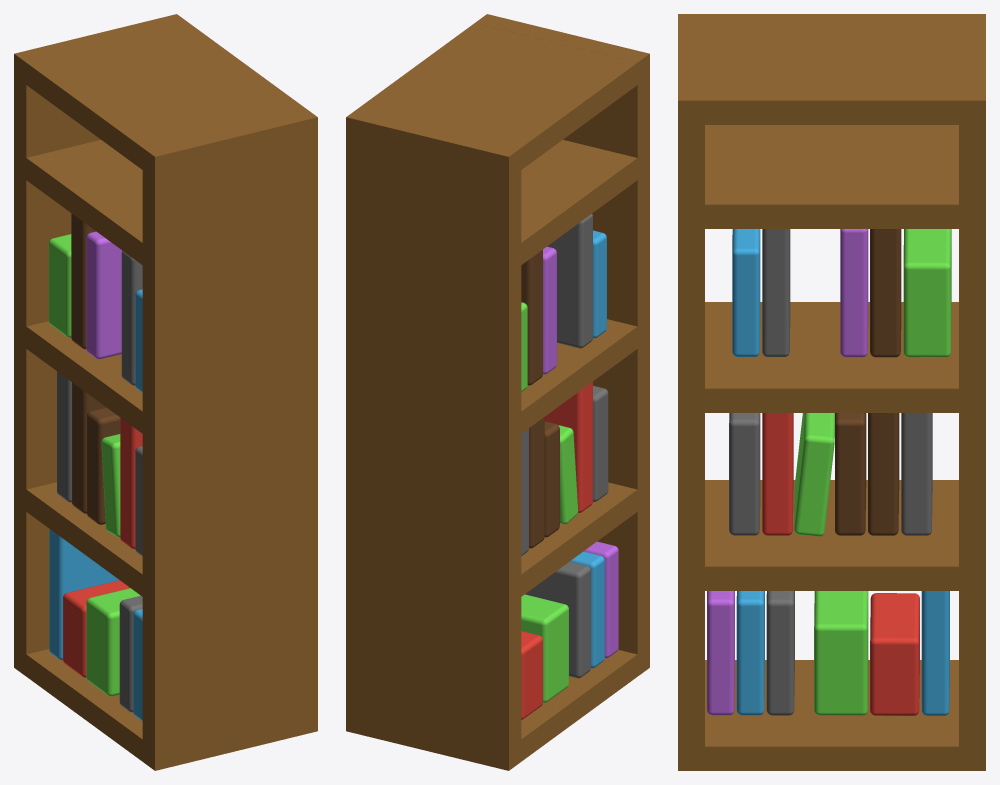
Rendered from bookshelf2.glb.
3 renders of one model, left to right at view 1: azimuth 30°, elevation 25°; view 2: azimuth 150°, elevation 25°; view 3: azimuth 270°, elevation 25°, orthographic. The views are drawn at different scales.
Visible parts, largest first — view 1: Cube, books.001; view 2: Cube, books.001; view 3: Cube, books.001.
Boxes of the visible parts, left/top/right/bottom form: Cube: left=14, top=14, right=317, bottom=770; books.001: left=48, top=213, right=142, bottom=720; Cube: left=346, top=14, right=649, bottom=770; books.001: left=521, top=214, right=618, bottom=719; Cube: left=678, top=14, right=985, bottom=770; books.001: left=707, top=229, right=951, bottom=715.
Size of the model in its own units: 0.4457 by 1.61 by 0.6687.
